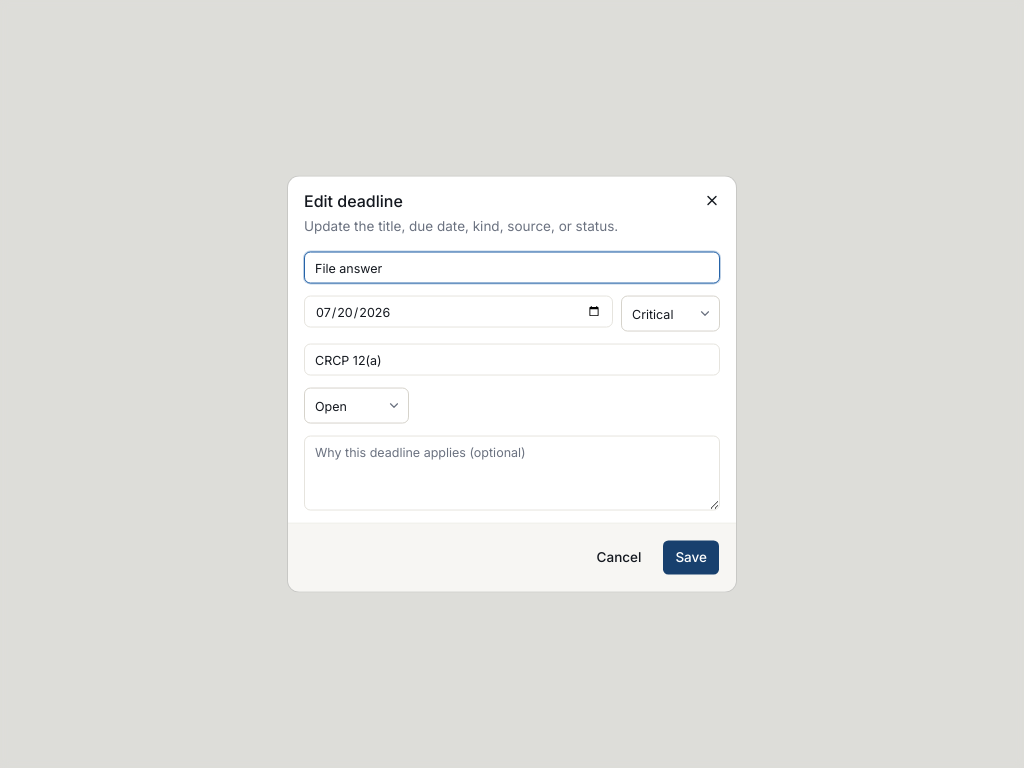
Test: EditDeadlineDialog — close on success › stays open and surfaces field errors when the action fails
This screenshot has width=1024, height=768.
Step 1. Click the button "Save" → coordinates (691, 558), box [662,540,720,576]
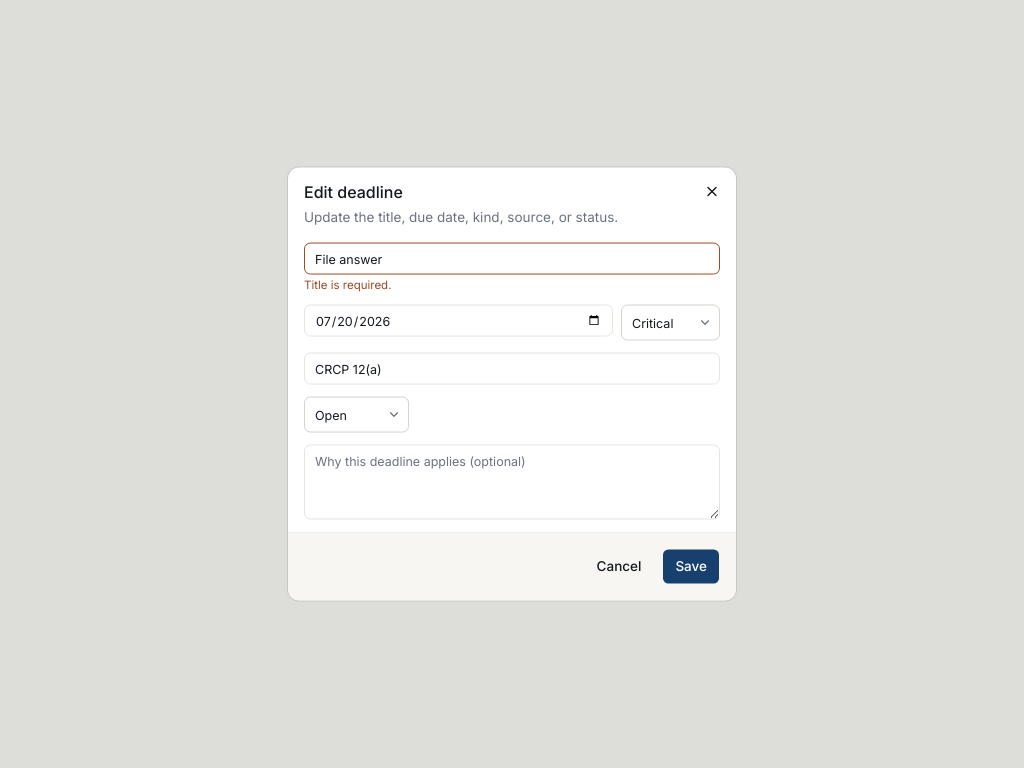
expect the text "Title is required." is shown: met, box [304,278,392,292]
